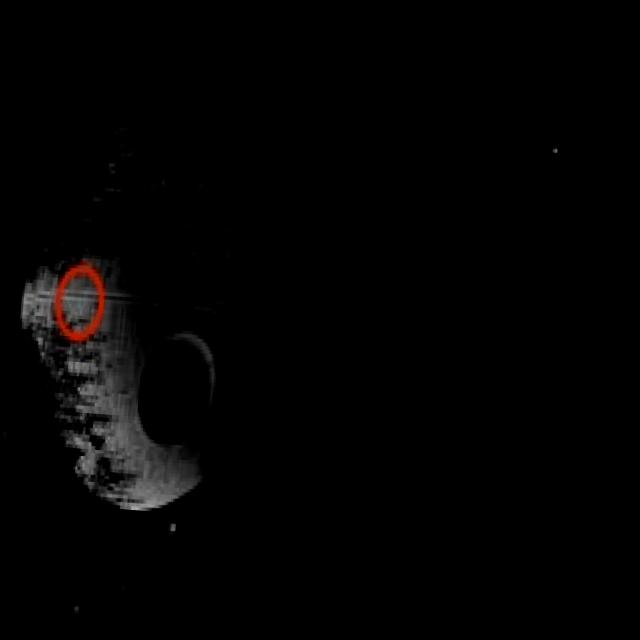deathStar: (12, 108, 292, 516)
